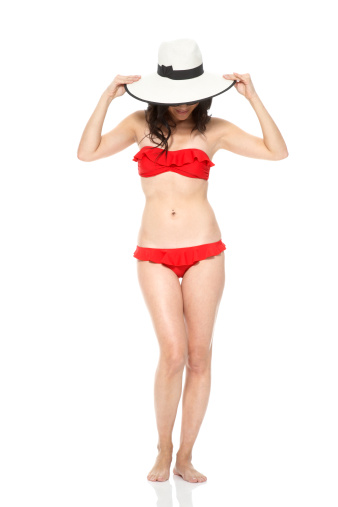em pe: (48, 32, 285, 498)
